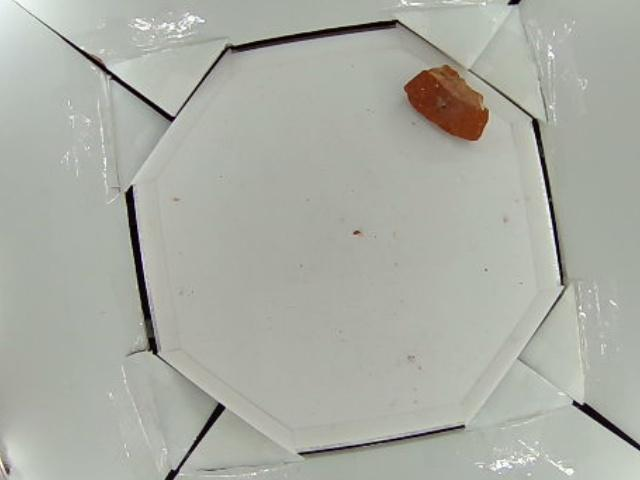Brisk: (400, 60, 492, 144)
